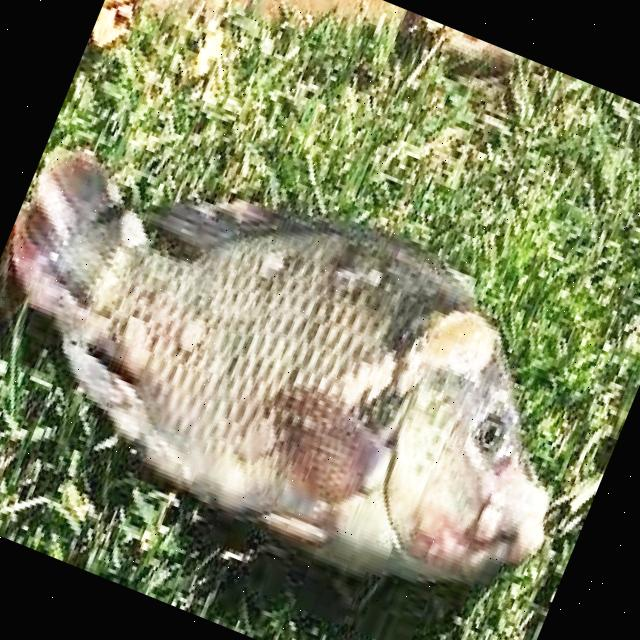Columnaris Disease: (12, 151, 545, 586), (11, 149, 548, 580), (10, 149, 547, 580)
